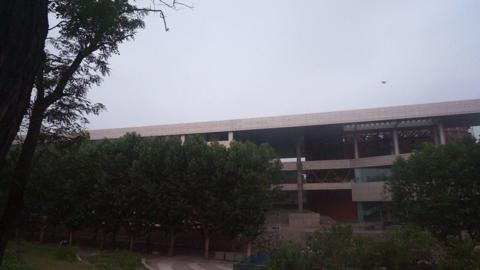UAV: (380, 81, 388, 84)
